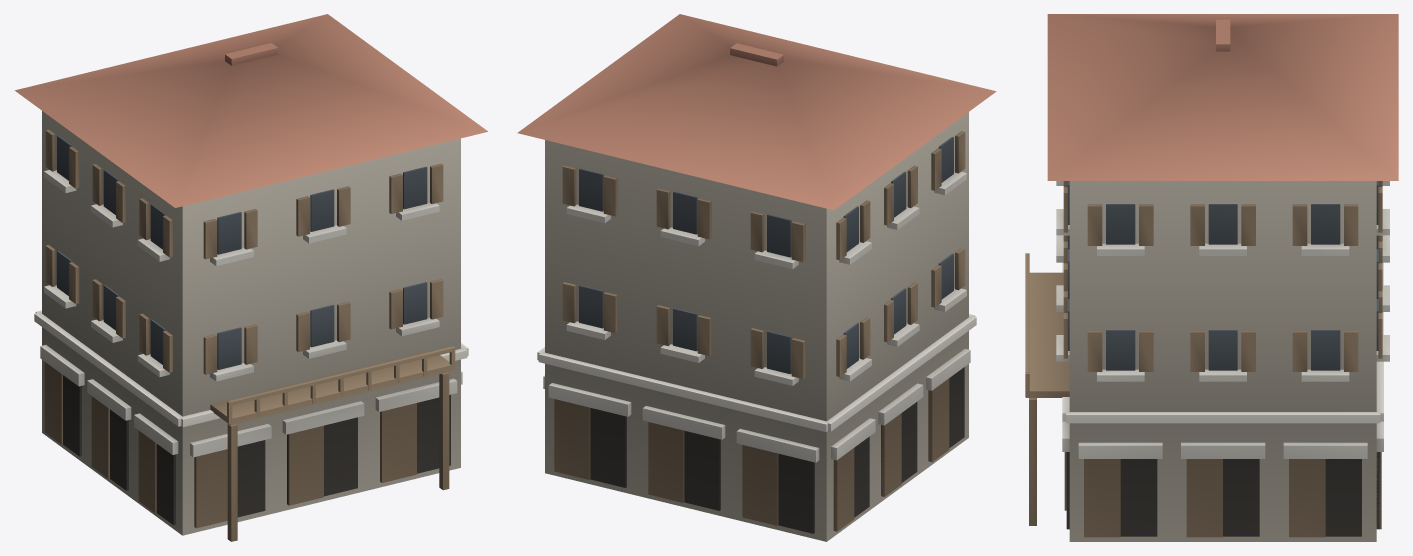
File: house_ancient_2.glb
3 renders of one model, left to right at view 1: azimuth 30°, elevation 25°; view 2: azimuth 150°, elevation 25°; view 3: azimuth 270°, elevation 25°, orthographic. The views are drawn at different scales.
Parts seen in each view (by area): view 1: Body_Wall, Body_Detail, Body_Roof; view 2: Body_Wall, Body_Detail, Body_Roof; view 3: Body_Wall, Body_Roof, Body_Detail.
Boxes of the visible parts, <box> form: Body_Wall: <box>42,111,460,535</box>; Body_Detail: <box>34,129,468,541</box>; Body_Roof: <box>14,14,487,207</box>; Body_Wall: <box>545,112,968,541</box>; Body_Detail: <box>537,131,976,533</box>; Body_Roof: <box>517,14,996,210</box>; Body_Wall: <box>1069,181,1376,541</box>; Body_Roof: <box>1047,14,1398,180</box>; Body_Detail: <box>1025,181,1389,537</box>.
Size of the model in its own units: 1.08 by 1.31 by 1.02.
